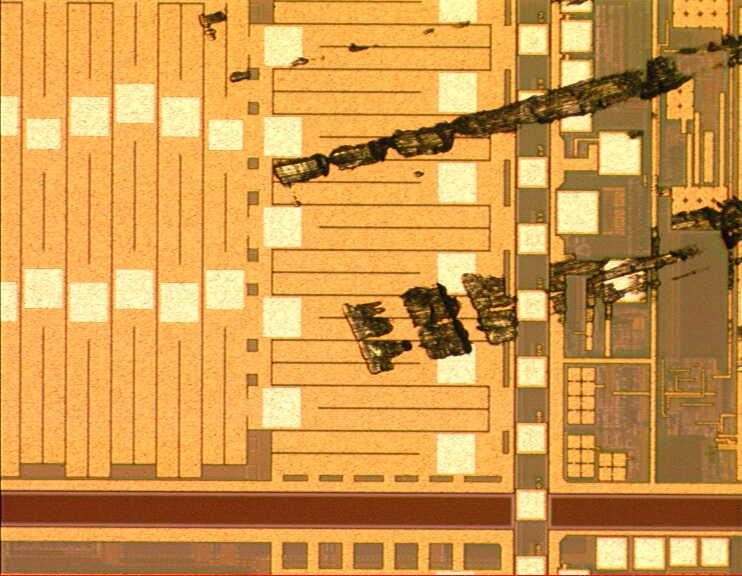SCRATCH: (196, 1, 742, 380)
